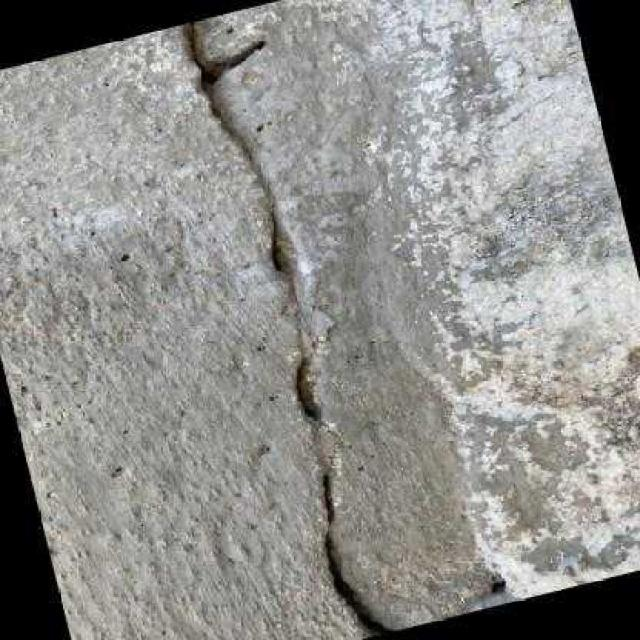D00: (185, 21, 400, 637)
